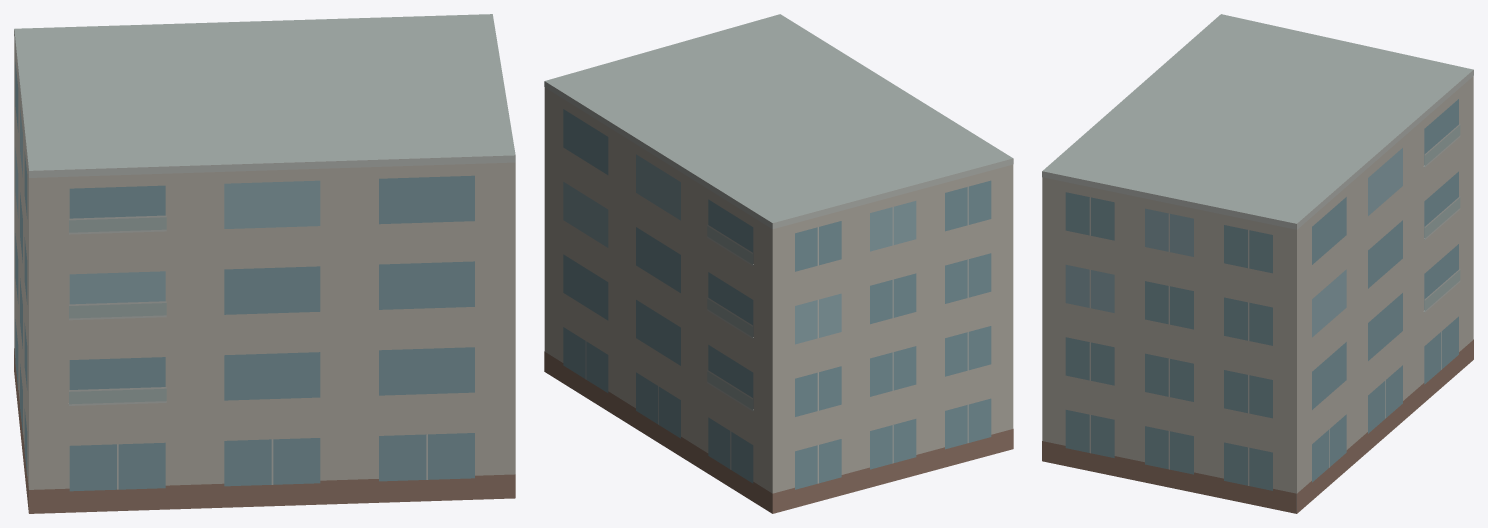
Rendered from survey-upis-32671567.glb.
3 renders of one model, left to right at view 1: azimuth 30°, elevation 25°; view 2: azimuth 150°, elevation 25°; view 3: azimuth 270°, elevation 25°, orthographic. The views are drawn at different scales.
Visible parts, largest first — view 1: survey-upis-32671567.tmp; view 2: survey-upis-32671567.tmp; view 3: survey-upis-32671567.tmp.
Part boxes in pixels (box(x1,y1,x2,y2)): survey-upis-32671567.tmp: box(14, 14, 515, 513); survey-upis-32671567.tmp: box(544, 14, 1013, 513); survey-upis-32671567.tmp: box(1042, 14, 1473, 513).
Size of the model in its own units: 18.17 by 11.7 by 15.79.
